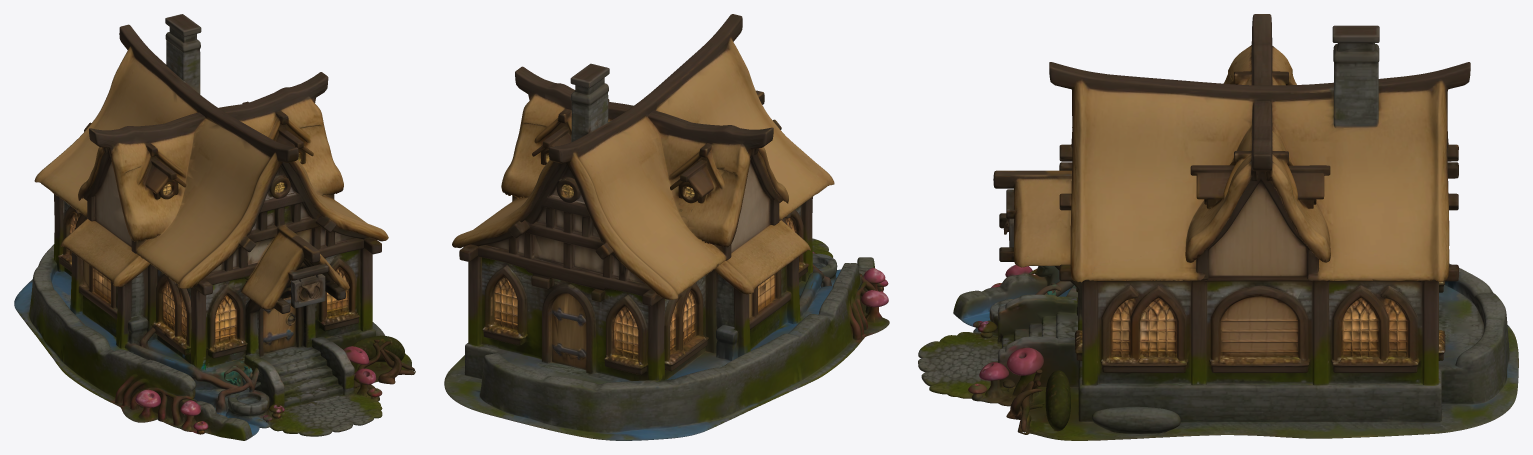
Rendered from house1.glb.
3 renders of one model, left to right at view 1: azimuth 30°, elevation 25°; view 2: azimuth 150°, elevation 25°; view 3: azimuth 270°, elevation 25°, orthographic. The views are drawn at different scales.
Visible parts, largest first — view 1: material; view 2: material; view 3: material.
Part boxes in pixels (left/top/right/bottom): material: left=14, top=14, right=415, bottom=440; material: left=444, top=14, right=889, bottom=440; material: left=918, top=14, right=1518, bottom=440.
Size of the model in its own units: 0.6491 by 0.6203 by 0.9813.
Materials: 1 (1 with a texture image).
